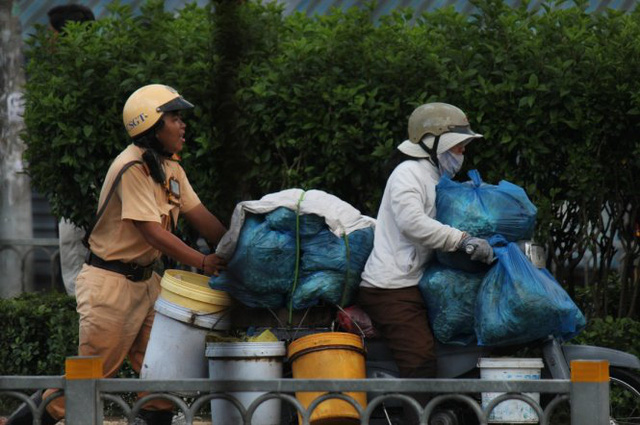police: (60, 71, 233, 416)
